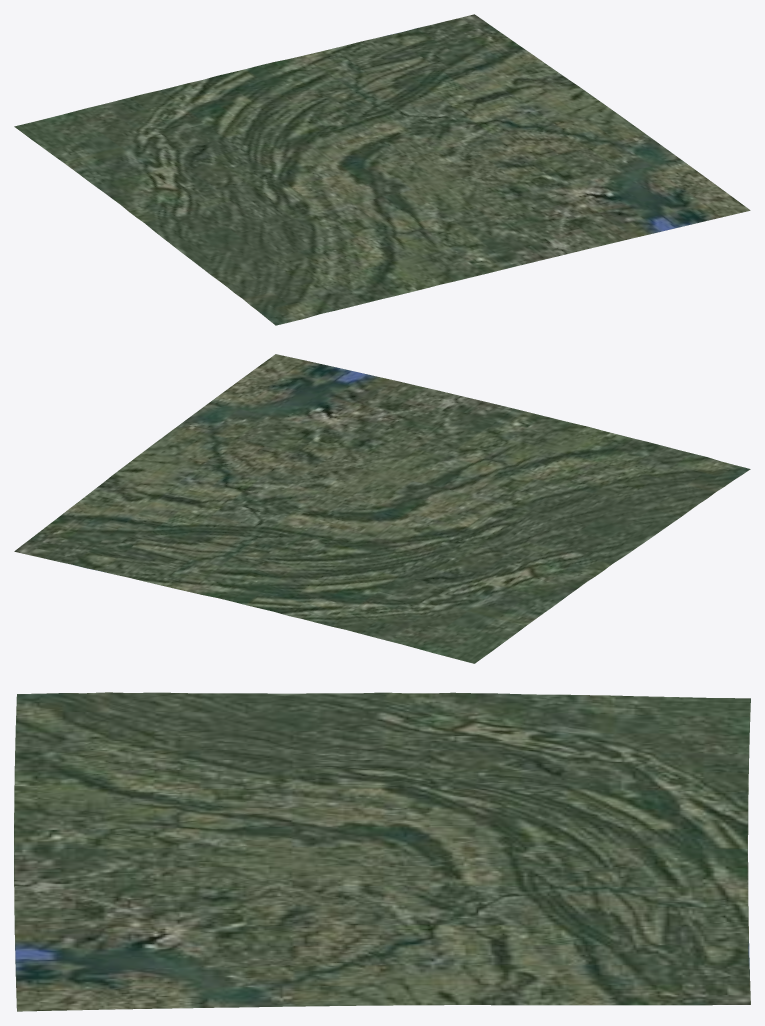
The picture shows the model from 3 angles, top to bottom: view 1: azimuth 30°, elevation 25°; view 2: azimuth 150°, elevation 25°; view 3: azimuth 270°, elevation 25°; orthographic projection. The views are drawn at different scales.
Bounding box in the file's own units: 244227 × 2860 × 240461.
Materials: 1 (1 with a texture image).
